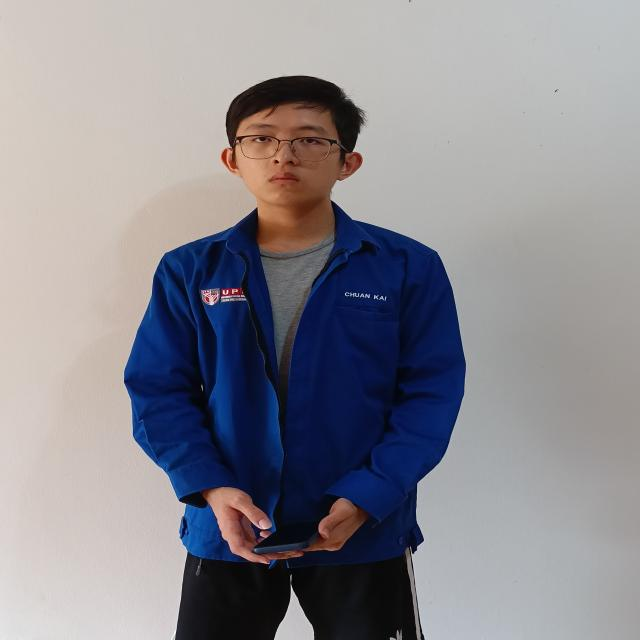person_with_labcoat: (125, 76, 465, 640)
